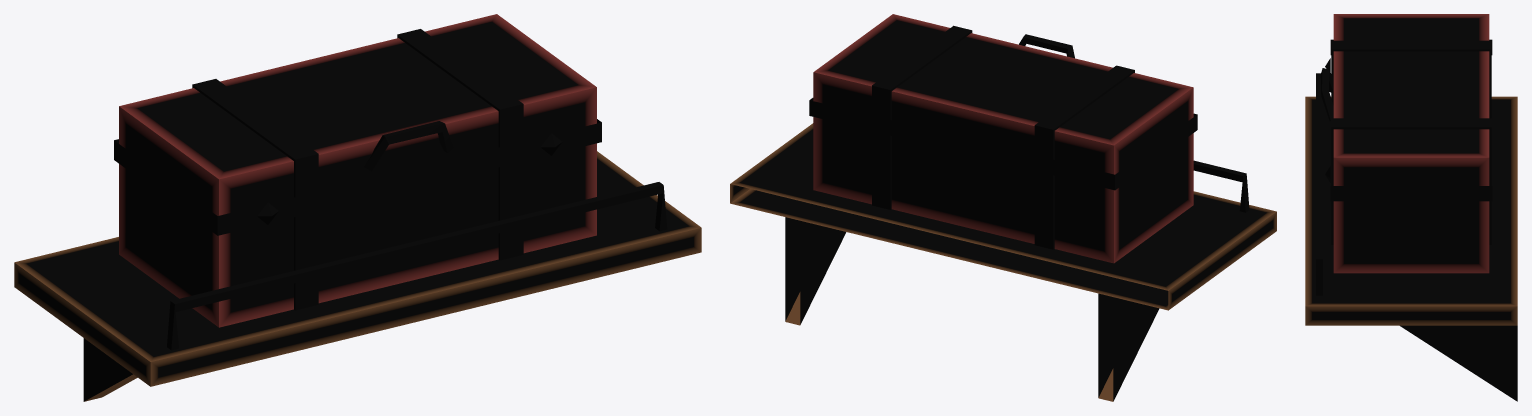
Rendered from luggage_shelf.glb.
The picture shows the model from 3 angles, left to right: view 1: azimuth 30°, elevation 25°; view 2: azimuth 150°, elevation 25°; view 3: azimuth 270°, elevation 25°; orthographic projection. The views are drawn at different scales.
Visible parts, largest first — view 1: upholstery, frame, dark, brass; view 2: upholstery, frame, dark, brass; view 3: upholstery, frame, dark, brass.
Boxes of the visible parts, bbox=[...] form: upholstery: bbox=[119, 14, 596, 327]; frame: bbox=[14, 151, 701, 401]; dark: bbox=[114, 29, 601, 310]; brass: bbox=[167, 121, 667, 350]; upholstery: bbox=[813, 14, 1193, 263]; frame: bbox=[730, 123, 1276, 401]; dark: bbox=[809, 25, 1197, 249]; brass: bbox=[1019, 34, 1249, 212]; upholstery: bbox=[1333, 14, 1489, 273]; frame: bbox=[1305, 96, 1517, 401]; dark: bbox=[1330, 39, 1492, 244]; brass: bbox=[1316, 58, 1333, 295].
Size of the model in its own units: 0.7 by 0.3805 by 0.3.
